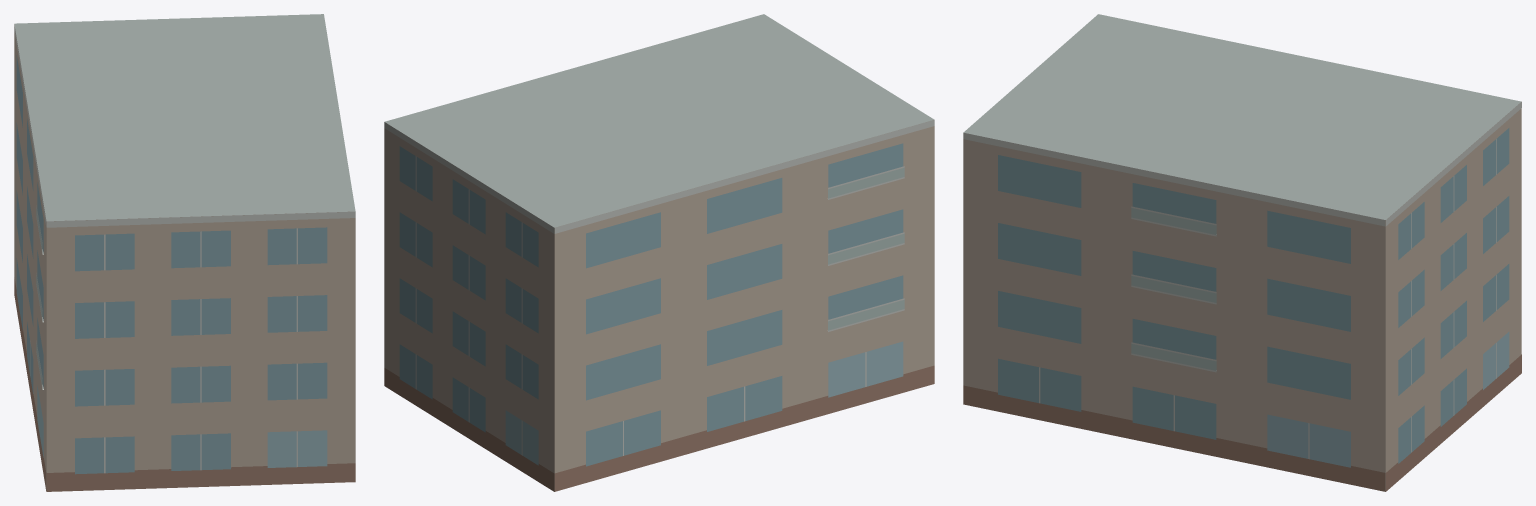
File: survey-upis-32533988.glb
3 renders of one model, left to right at view 1: azimuth 30°, elevation 25°; view 2: azimuth 150°, elevation 25°; view 3: azimuth 270°, elevation 25°, orthographic. The views are drawn at different scales.
Visible parts, largest first — view 1: survey-upis-32533988.tmp; view 2: survey-upis-32533988.tmp; view 3: survey-upis-32533988.tmp.
Part boxes in pixels (x1,y1,x2,y2): survey-upis-32533988.tmp: (14,14,355,491); survey-upis-32533988.tmp: (384,14,934,491); survey-upis-32533988.tmp: (963,14,1521,491).
Size of the model in its own units: 16.69 by 10.25 by 19.1.
